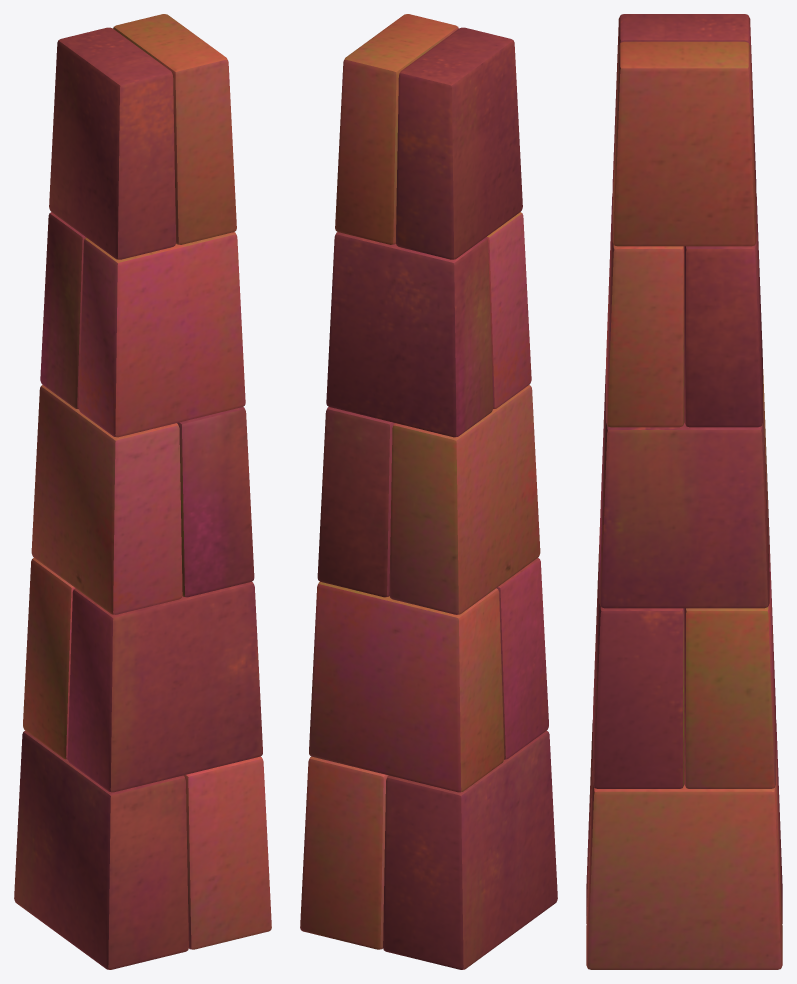
The model's file is TEMPLE_PILLAR_THIN_001.obj.
The picture shows the model from 3 angles, left to right: view 1: azimuth 30°, elevation 25°; view 2: azimuth 150°, elevation 25°; view 3: azimuth 270°, elevation 25°; orthographic projection. The views are drawn at different scales.
Parts seen in each view (by area): view 1: TEMPLE_PILLAR_THIN_001; view 2: TEMPLE_PILLAR_THIN_001; view 3: TEMPLE_PILLAR_THIN_001.
Boxes of the visible parts, <box> form: TEMPLE_PILLAR_THIN_001: <box>14,14,271,969</box>; TEMPLE_PILLAR_THIN_001: <box>300,14,557,969</box>; TEMPLE_PILLAR_THIN_001: <box>586,14,782,969</box>.
Bounding box in the file's own units: 0.599 × 3 × 0.599.
